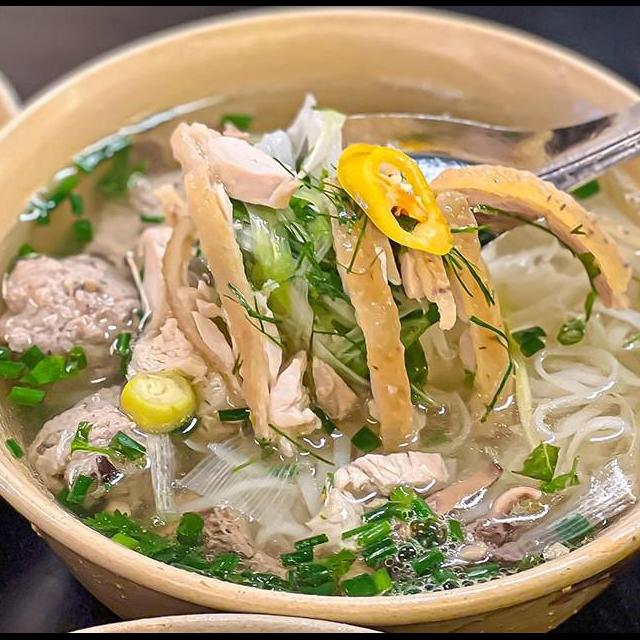banh pho: (433, 236, 640, 546)
pho ga: (0, 85, 640, 633)
thit ga: (150, 114, 329, 472), (420, 158, 638, 318), (404, 184, 523, 446), (316, 172, 425, 458), (298, 450, 464, 570), (123, 306, 255, 452)
vien moc: (16, 376, 185, 540), (0, 247, 147, 387)
